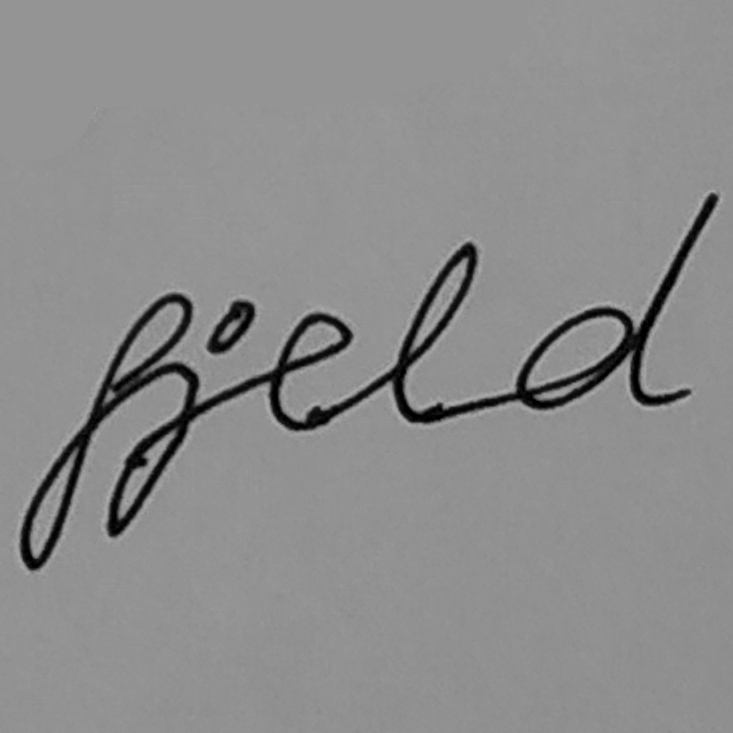d: (512, 187, 720, 415)
e: (266, 308, 362, 433)
f: (16, 290, 195, 573)
j: (104, 296, 259, 543)
l: (386, 239, 483, 425)
